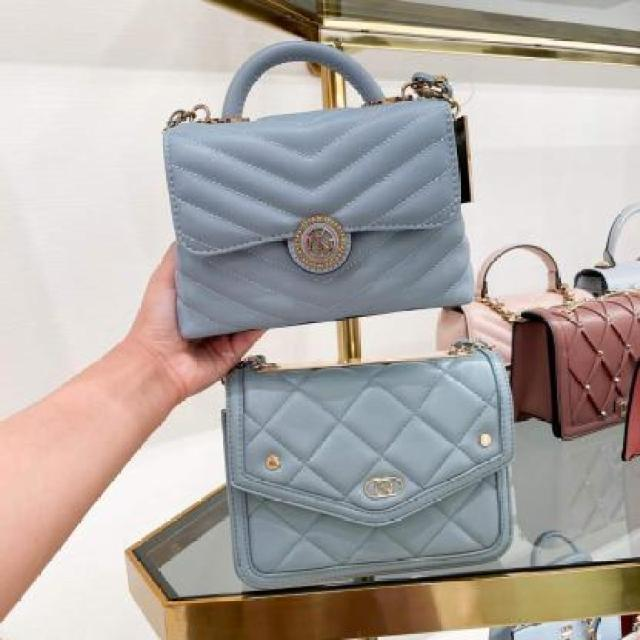Bag: (134, 13, 552, 345), (206, 333, 548, 607)
